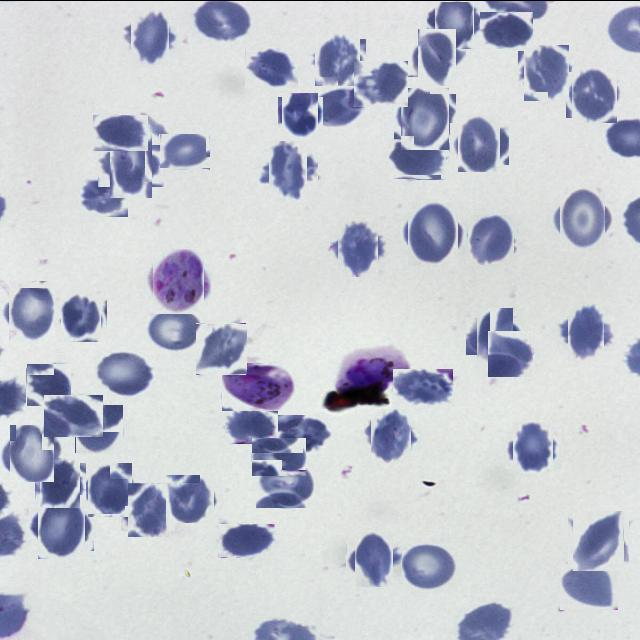difficult: (222, 362, 293, 410)
red blood cell: (404, 204, 462, 262), (554, 190, 610, 246), (34, 498, 90, 554), (397, 90, 453, 146), (570, 512, 626, 568), (255, 460, 316, 508), (104, 138, 158, 192), (4, 284, 58, 338), (94, 349, 156, 396), (399, 542, 458, 590), (568, 68, 620, 120), (560, 563, 618, 609), (146, 306, 204, 351), (521, 47, 572, 98), (196, 322, 247, 373), (6, 427, 57, 478), (304, 85, 367, 126), (454, 118, 505, 168), (313, 36, 363, 86), (262, 146, 312, 196), (354, 60, 408, 106), (44, 394, 103, 436), (166, 474, 215, 523), (86, 464, 134, 514), (388, 138, 446, 179), (126, 13, 174, 62), (333, 224, 382, 272), (76, 404, 124, 453), (562, 308, 610, 356), (468, 215, 516, 263), (510, 424, 558, 472), (413, 33, 461, 81), (124, 485, 172, 533), (367, 411, 415, 458), (471, 312, 519, 359), (245, 46, 298, 88), (350, 536, 398, 582), (393, 368, 453, 404), (276, 414, 331, 453), (251, 437, 306, 476), (38, 459, 84, 505), (58, 293, 104, 339), (430, 0, 478, 44), (92, 114, 148, 151), (488, 330, 533, 376), (78, 176, 128, 216), (480, 11, 533, 48), (225, 406, 278, 443), (218, 523, 275, 557), (26, 363, 71, 406), (159, 132, 210, 168), (280, 94, 320, 134)
trophozoite: (149, 250, 208, 310), (335, 345, 411, 391)
